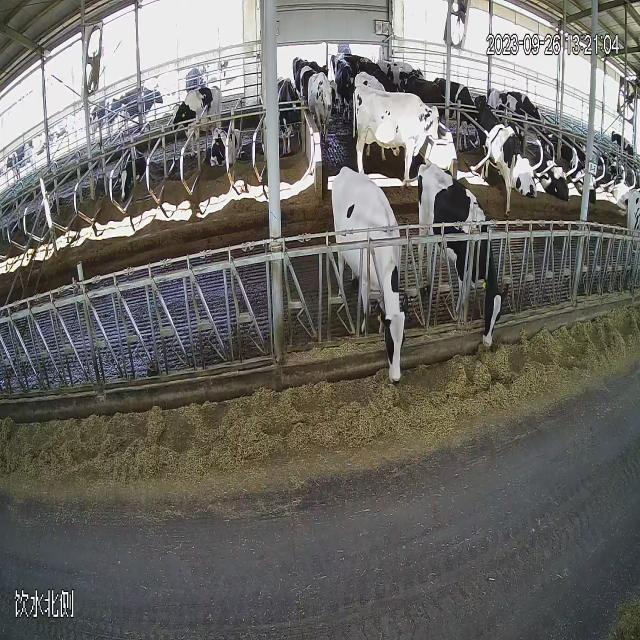drinking: (354, 80, 444, 166)
feeding: (328, 160, 416, 401), (419, 155, 509, 359)
lying down: (110, 124, 144, 212), (210, 118, 243, 172), (542, 156, 574, 207)
standing: (167, 76, 226, 154)
